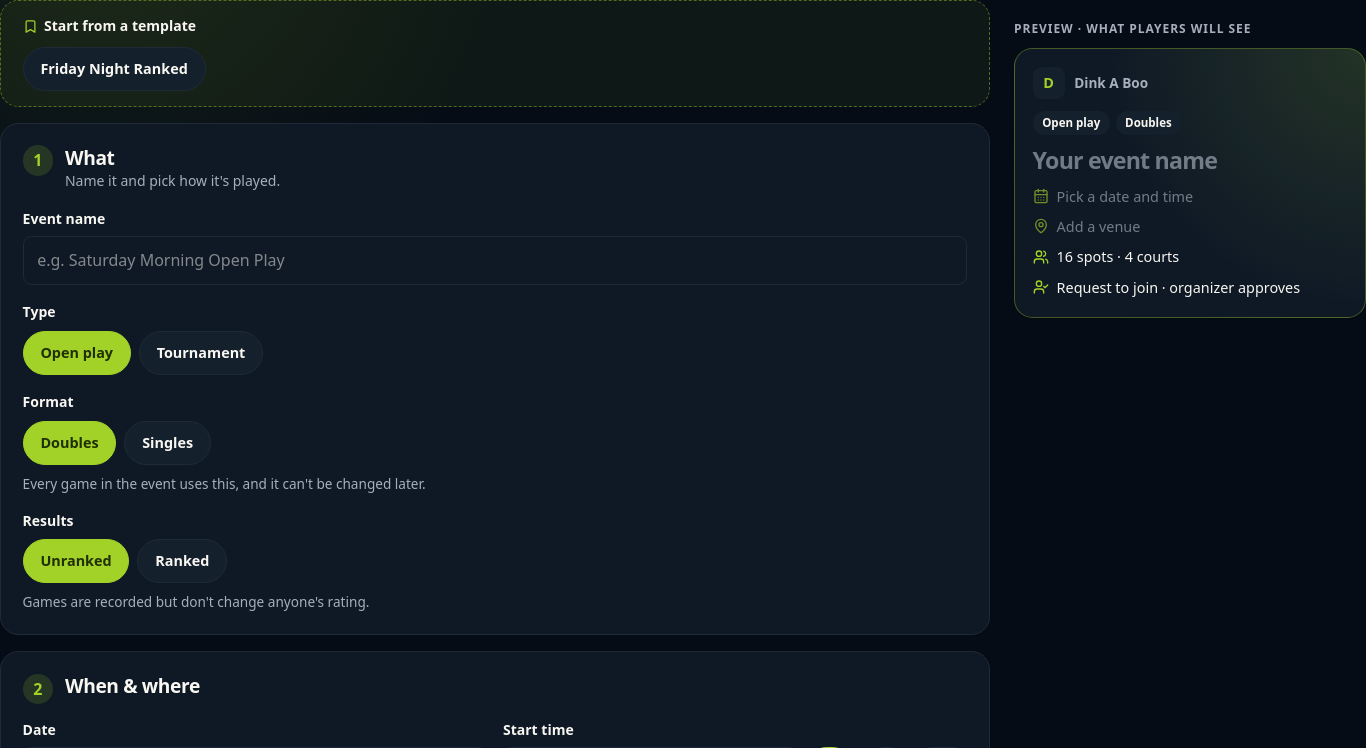
Test: create event form › fills the form from a template, keeping the date to pick
The width and height of the screenshot is (1366, 748).
Click the button "Friday Night Ranked" at (114, 70), box [23, 48, 206, 92]
(page scrolled)
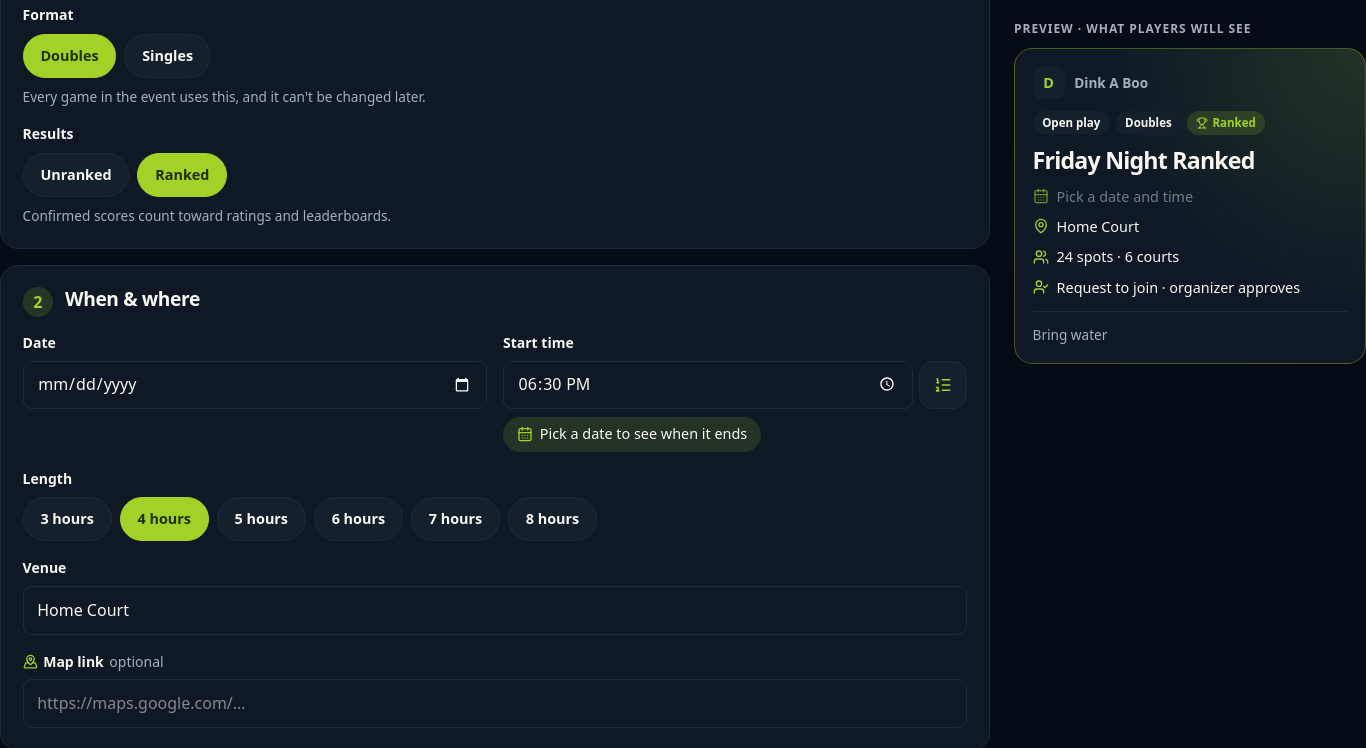
Check: the radio button labelled "Ranked" is checked, box [138, 153, 227, 197]
Check: the time field labelled "Start time" holds "18:30", box [503, 361, 913, 409]
Type "2030-11-09" into the date field labelled "Date" at (255, 385), box [23, 361, 487, 409]
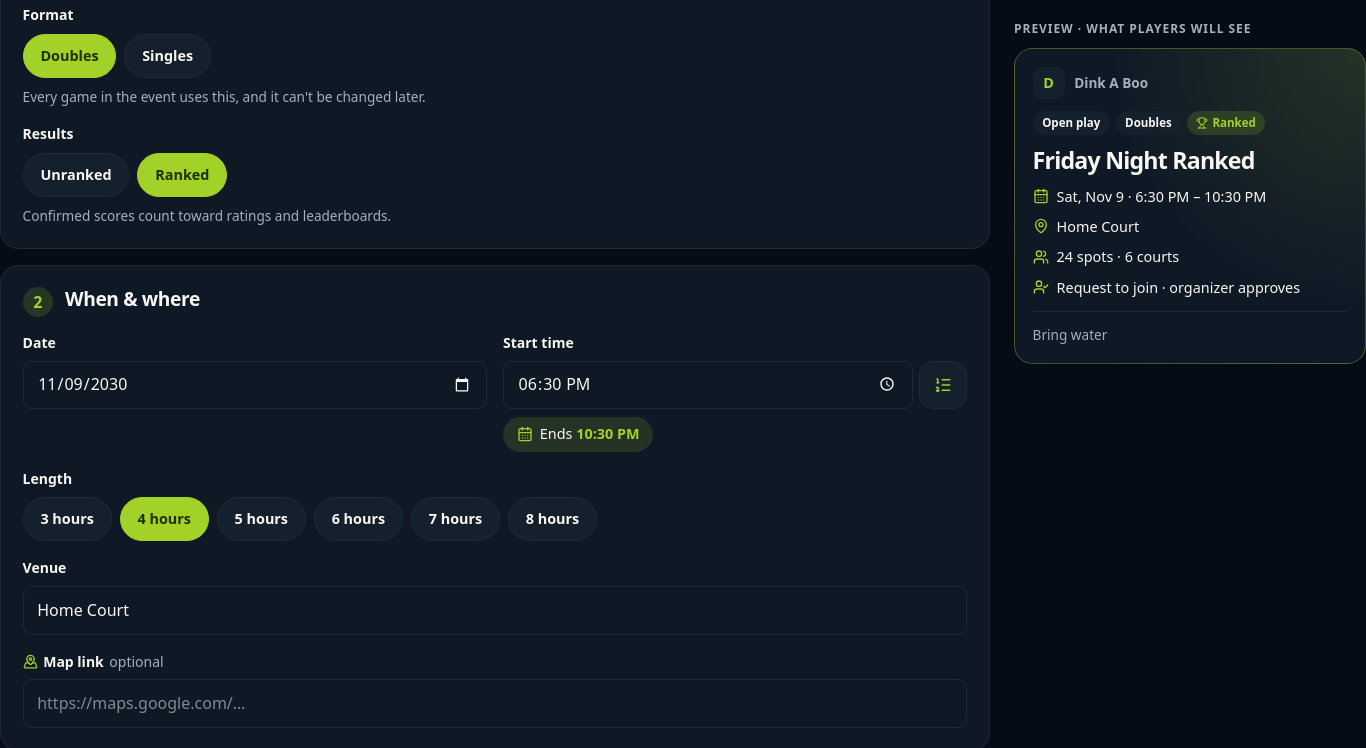
Check: the element showing "Ends 10:30 PM" is shown, box [540, 423, 640, 445]
